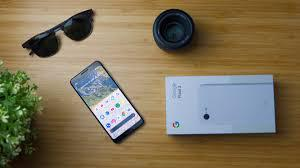Smartphone: (71, 62, 144, 144)
